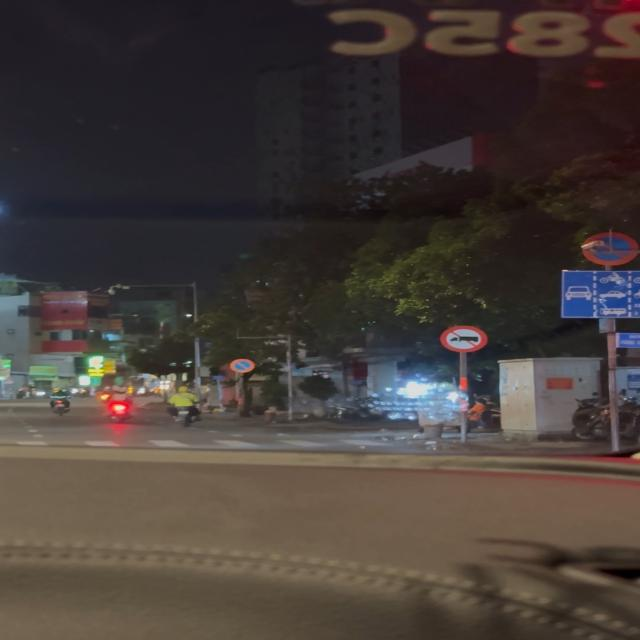Bien bao cam do xe: (227, 356, 259, 373)
Bien bao cam xe so-mi ro-mooc: (439, 324, 489, 354)
